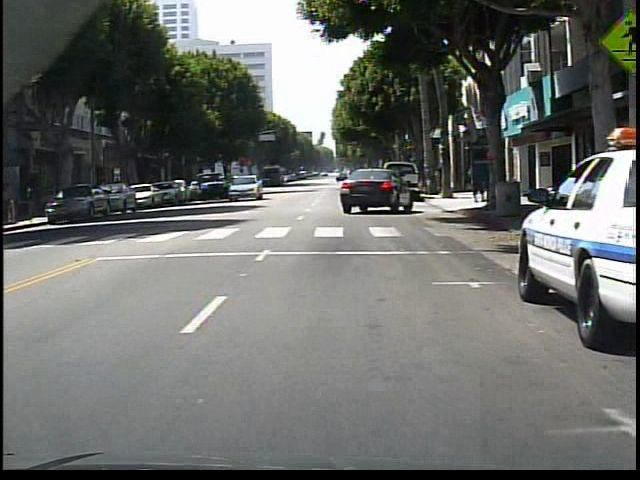person: (466, 159, 489, 208)
